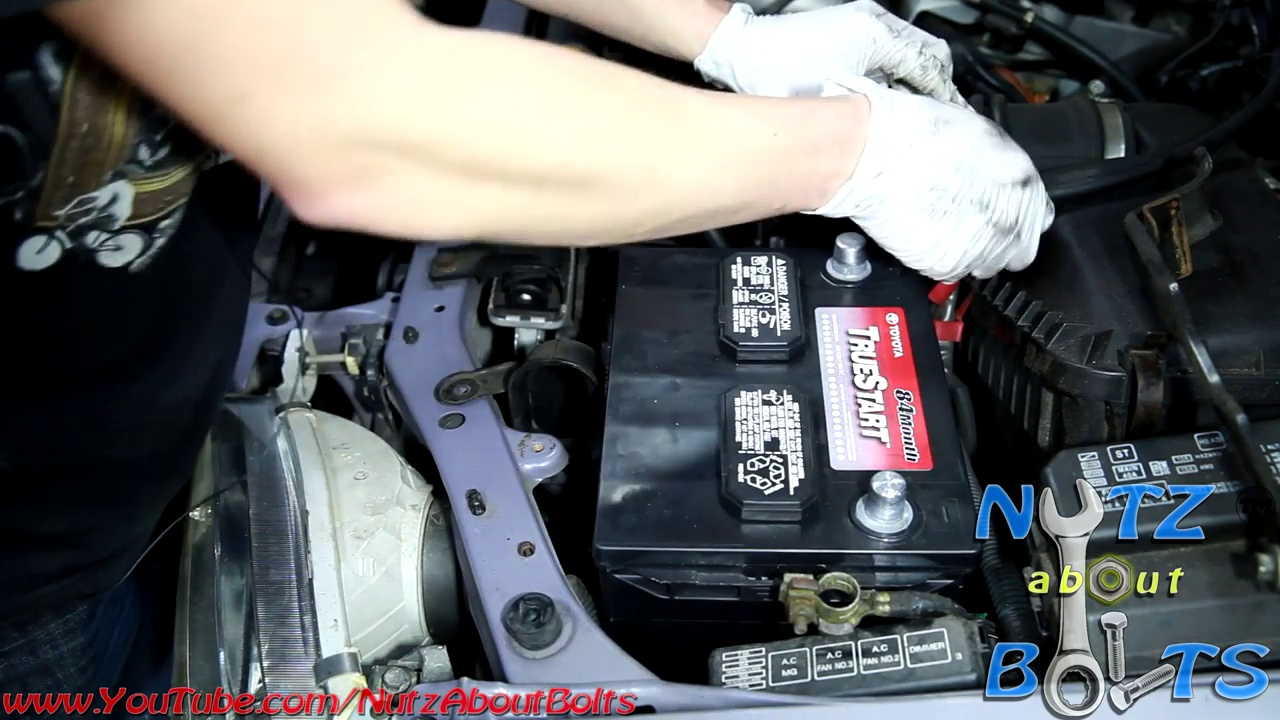battery: (591, 227, 986, 564)
